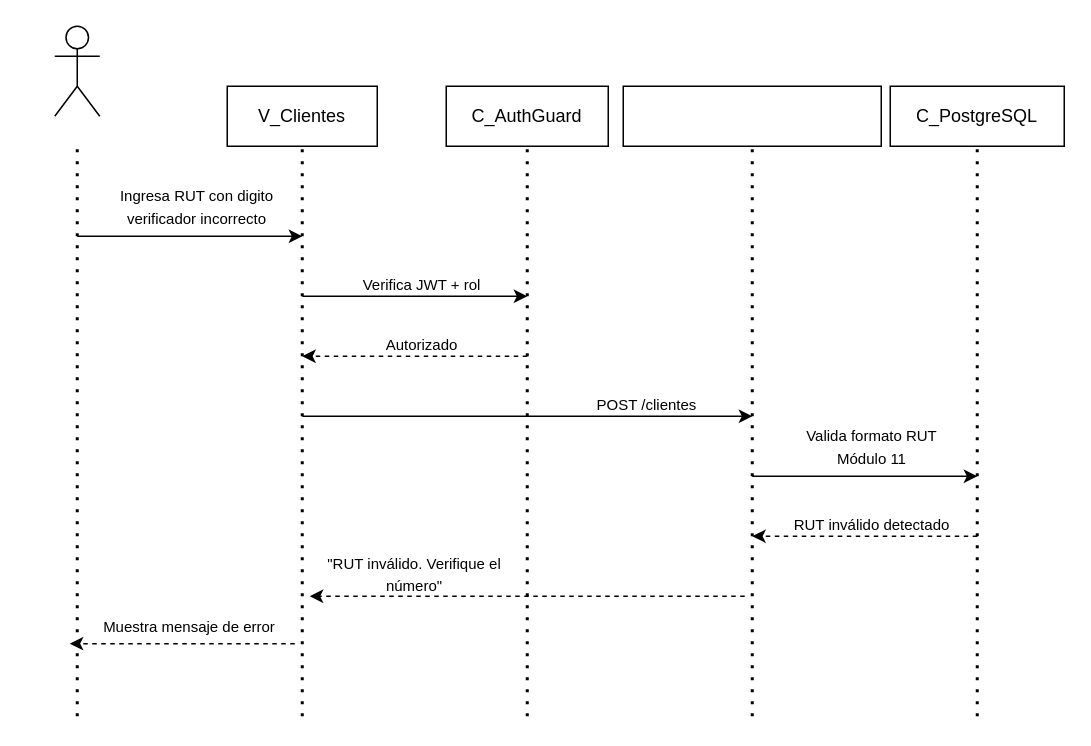
The diagram is 1091 pixels wide and 746 high, and some of its shapes have lost their labels. The shapes that lost their labels are listed below. From the top down, each one's centre as x and y in pixels, then its label:
At point (76, 70): "Jefe Técnico".
At point (751, 115): "C_ClienteController".
